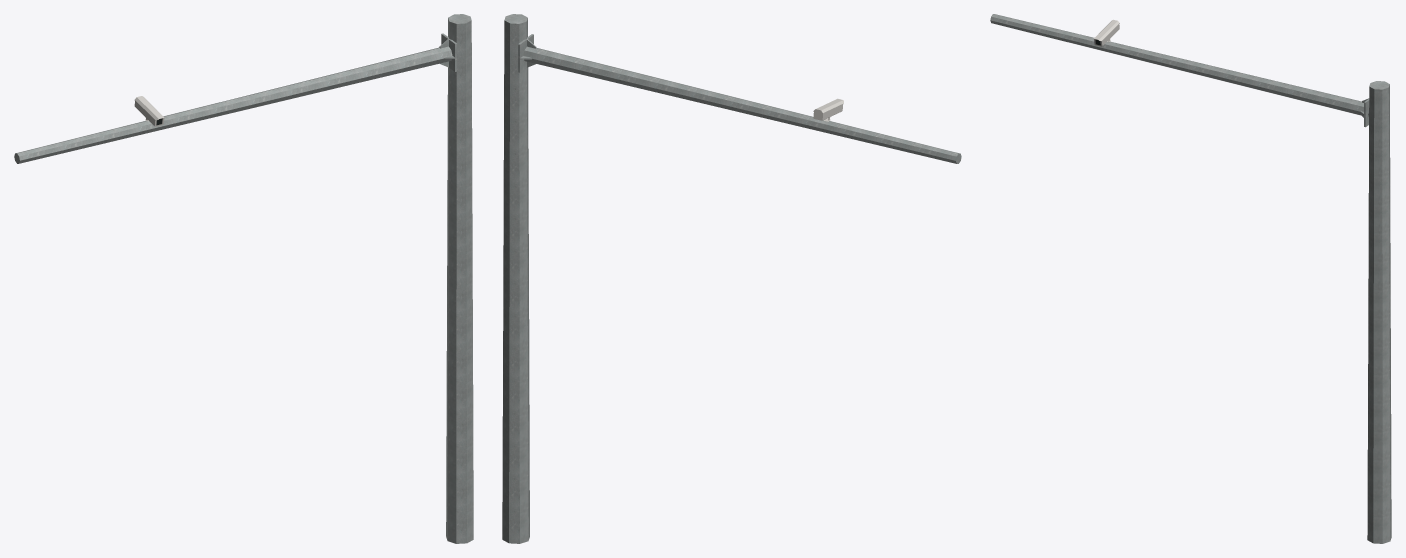
The model's file is cctv.gltf.
3 renders of one model, left to right at view 1: azimuth 30°, elevation 25°; view 2: azimuth 150°, elevation 25°; view 3: azimuth 330°, elevation 25°, orthographic. The views are drawn at different scales.
Visible parts, largest first — view 1: Cylinder9374; view 2: Cylinder9374; view 3: Cylinder9374.
Part boxes in pixels (x1,y1,x2,y2): Cylinder9374: (14,14,473,543); Cylinder9374: (502,14,961,543); Cylinder9374: (990,14,1391,543).
Size of the model in its own units: 7.34 by 8 by 0.6329.
2 materials, 2 textured.
